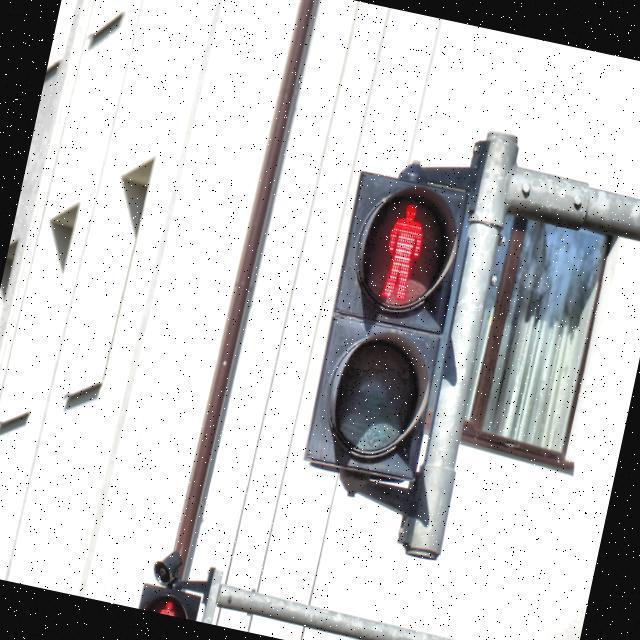red_light: (372, 195, 433, 308)
